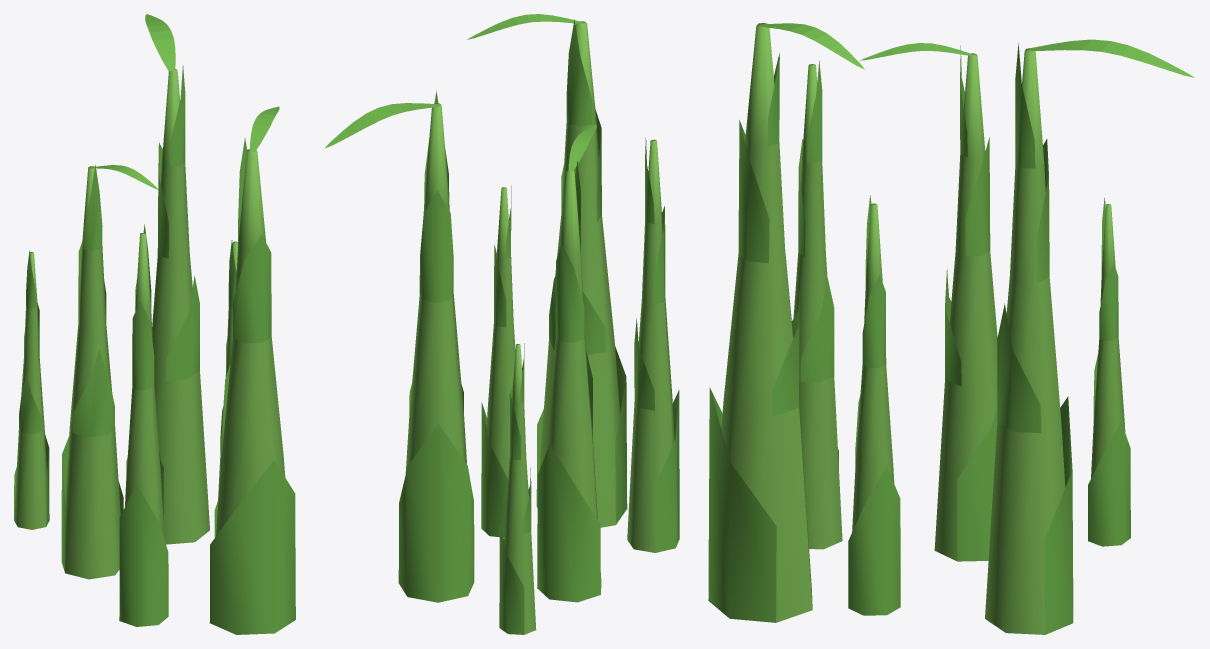
The model's file is model_brotogengibre_01.fbx.
3 renders of one model, left to right at view 1: azimuth 30°, elevation 25°; view 2: azimuth 150°, elevation 25°; view 3: azimuth 270°, elevation 25°, orthographic. The views are drawn at different scales.
Parts seen in each view (by area): view 1: gengibre broto; view 2: gengibre broto; view 3: gengibre broto.
Boxes of the visible parts, x1,y1,x2,y2 form: gengibre broto: (14, 14, 295, 634); gengibre broto: (324, 14, 679, 634); gengibre broto: (708, 23, 1194, 634).
Bounding box in the file's own units: 0.2778 × 0.6982 × 0.524.
